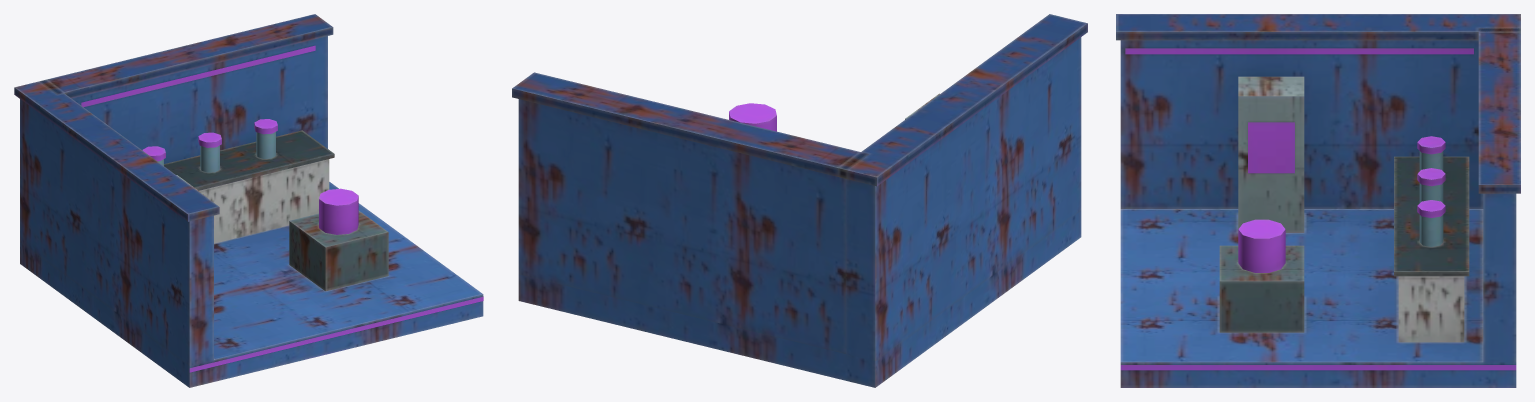
File: physics_lab.glb
3 renders of one model, left to right at view 1: azimuth 30°, elevation 25°; view 2: azimuth 150°, elevation 25°; view 3: azimuth 270°, elevation 25°, orthographic. The views are drawn at different scales.
Visible parts, largest first — view 1: te_physics_lab; view 2: te_physics_lab; view 3: te_physics_lab.
Part boxes in pixels (x1,y1,x2,y2): te_physics_lab: (14,14,483,387); te_physics_lab: (512,14,1087,387); te_physics_lab: (1116,14,1520,387).
Bounding box in the file's own units: 0.86 × 0.48 × 0.86.
Materials: 1 (1 with a texture image).
